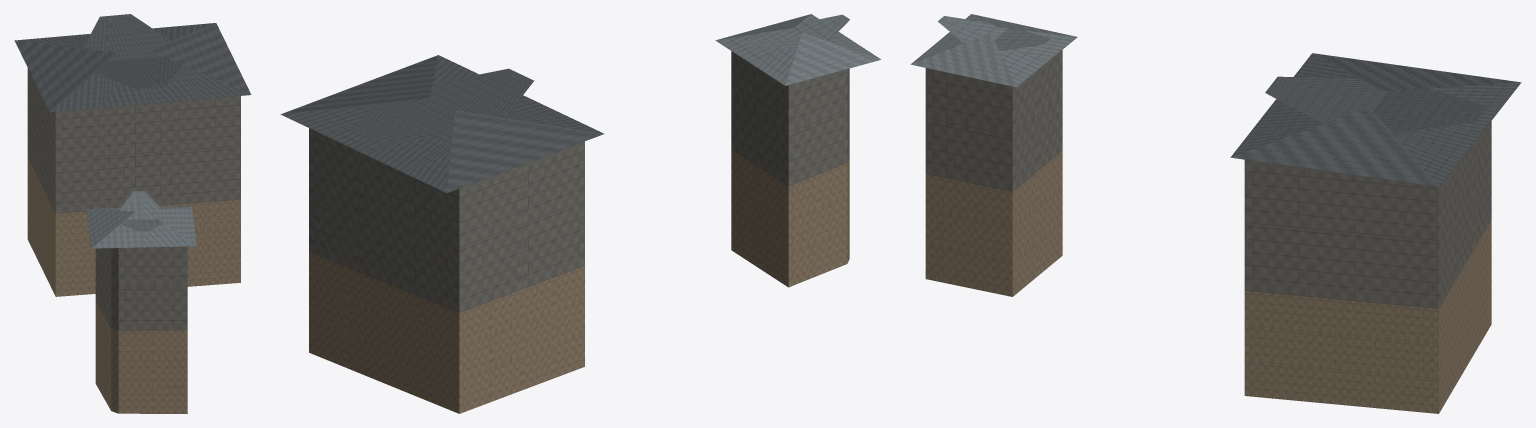
Rendered from bld_c23_-48_535.gltf.
The picture shows the model from 3 angles, left to right: view 1: azimuth 30°, elevation 25°; view 2: azimuth 150°, elevation 25°; view 3: azimuth 270°, elevation 25°; orthographic projection. The views are drawn at different scales.
Parts seen in each view (by area): view 1: bld_c23_-48_535; view 2: bld_c23_-48_535; view 3: bld_c23_-48_535.
Boxes of the visible parts, bbox=[...] form: bld_c23_-48_535: bbox=[14, 14, 251, 413]; bld_c23_-48_535: bbox=[280, 14, 880, 413]; bld_c23_-48_535: bbox=[910, 14, 1521, 413].
Size of the model in its own units: 19.91 by 12.7 by 26.85.
4 materials, 4 textured.
